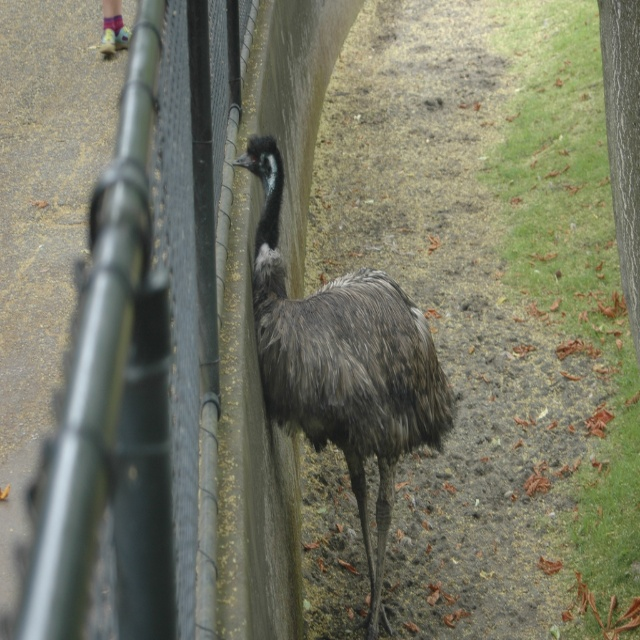Ostrich: (226, 102, 456, 612)
